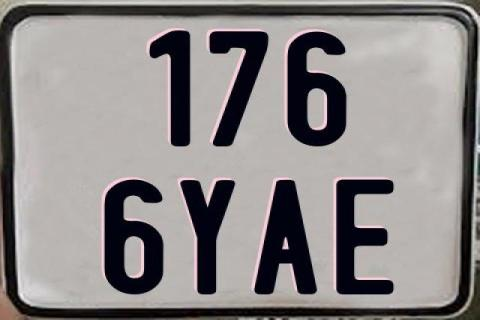0: (102, 177, 168, 297), (284, 30, 344, 150), (208, 29, 268, 147), (146, 30, 192, 150)
A: (252, 178, 316, 294)
E: (335, 179, 394, 299)
Y: (177, 177, 233, 297)
